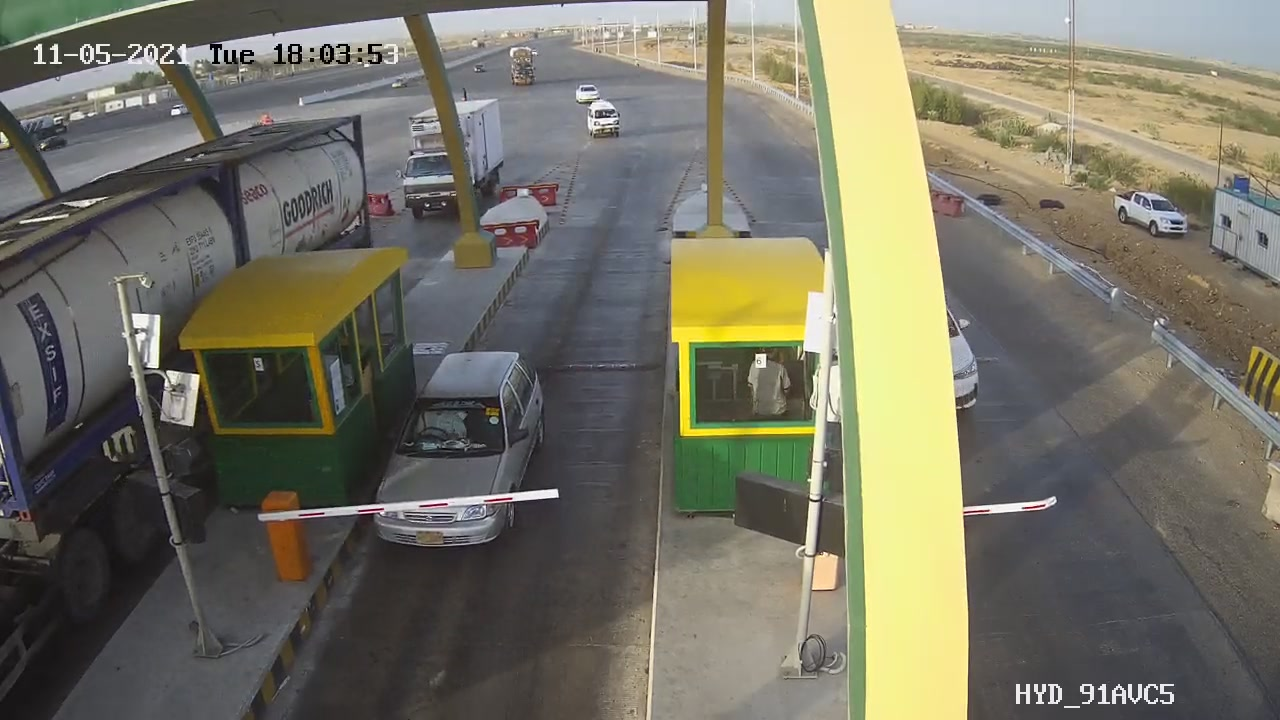F1: (361, 340, 566, 565)
